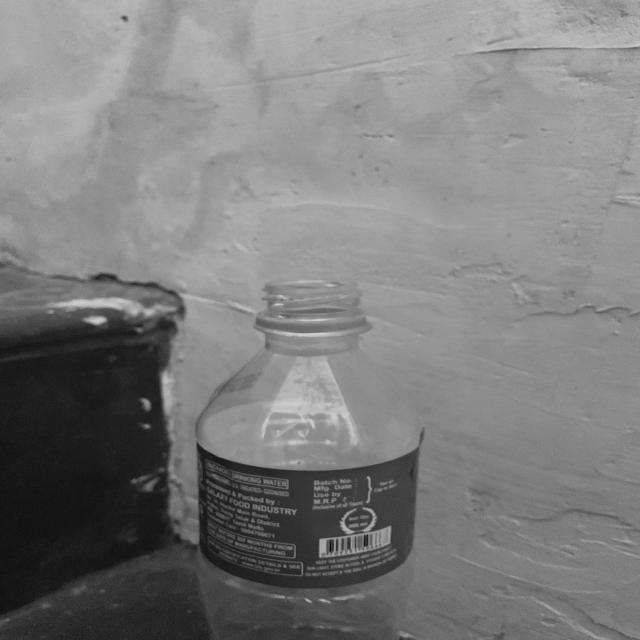open-cap: (259, 273, 368, 330)
